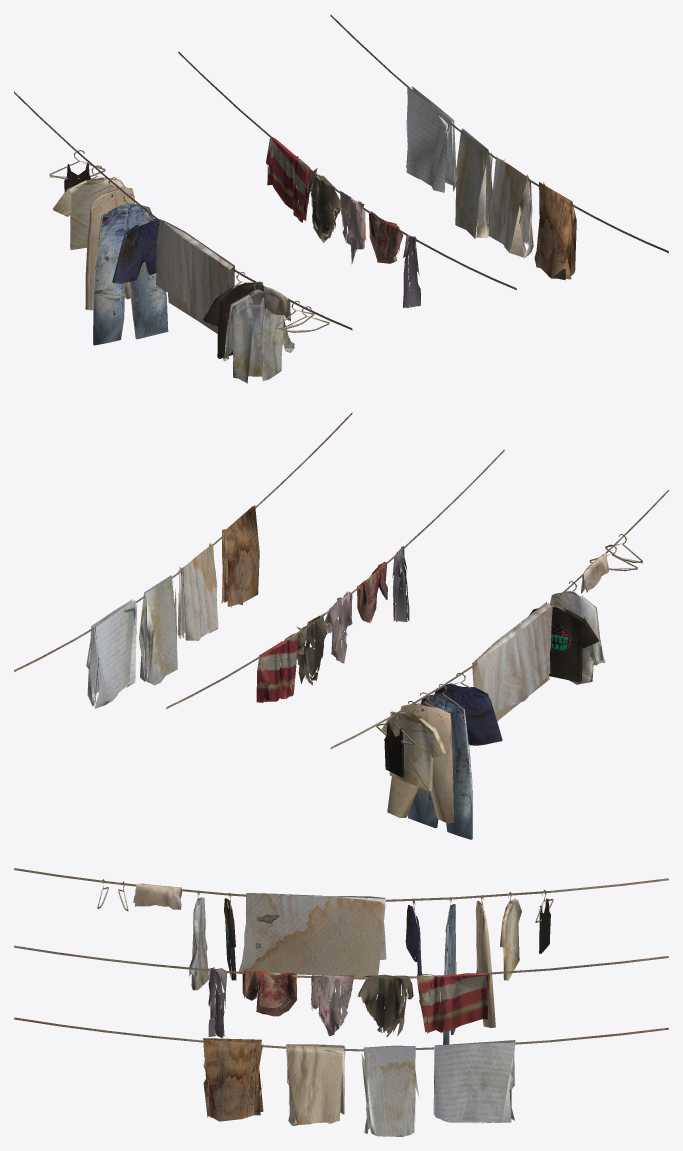
The model's file is bucato.glb.
3 views of the same model, one above another, from view 1: azimuth 30°, elevation 25°; view 2: azimuth 150°, elevation 25°; view 3: azimuth 270°, elevation 25° (orthographic). The views are drawn at different scales.
Bounding box in the file's own units: 21.68 × 9.92 × 34.46.
5 materials, 5 textured.
